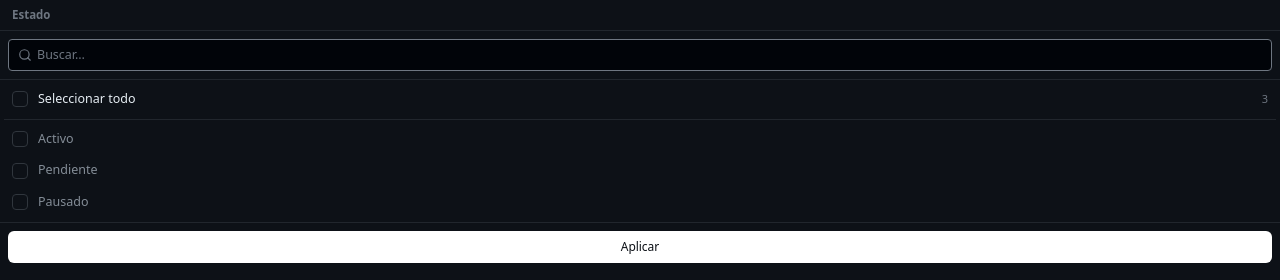
<MultiSelectFilterContent /> › filters options by the searchable input
The width and height of the screenshot is (1280, 280).
Type "pend" into the field with placeholder "Buscar…".
click(640, 55); type("pend")  # box [8,39,1272,71]
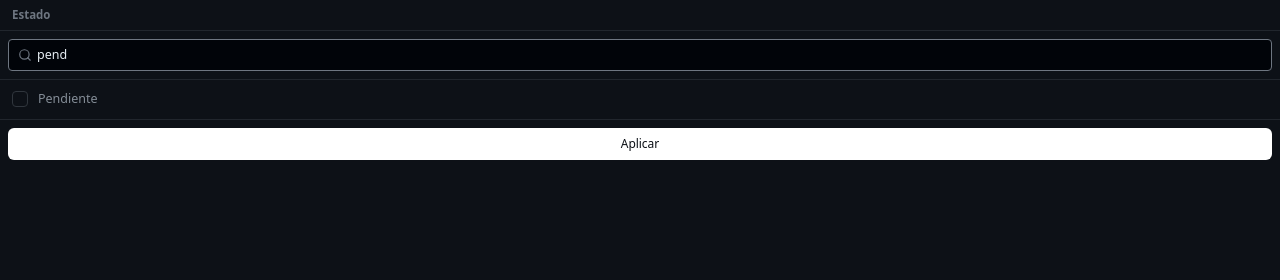
Expected: the text "Pendiente" is shown, [38,90,98,107]
Now the text "Activo" is gone
